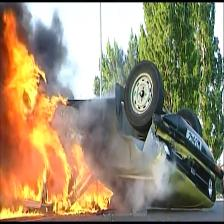fire: (3, 61, 93, 214)
